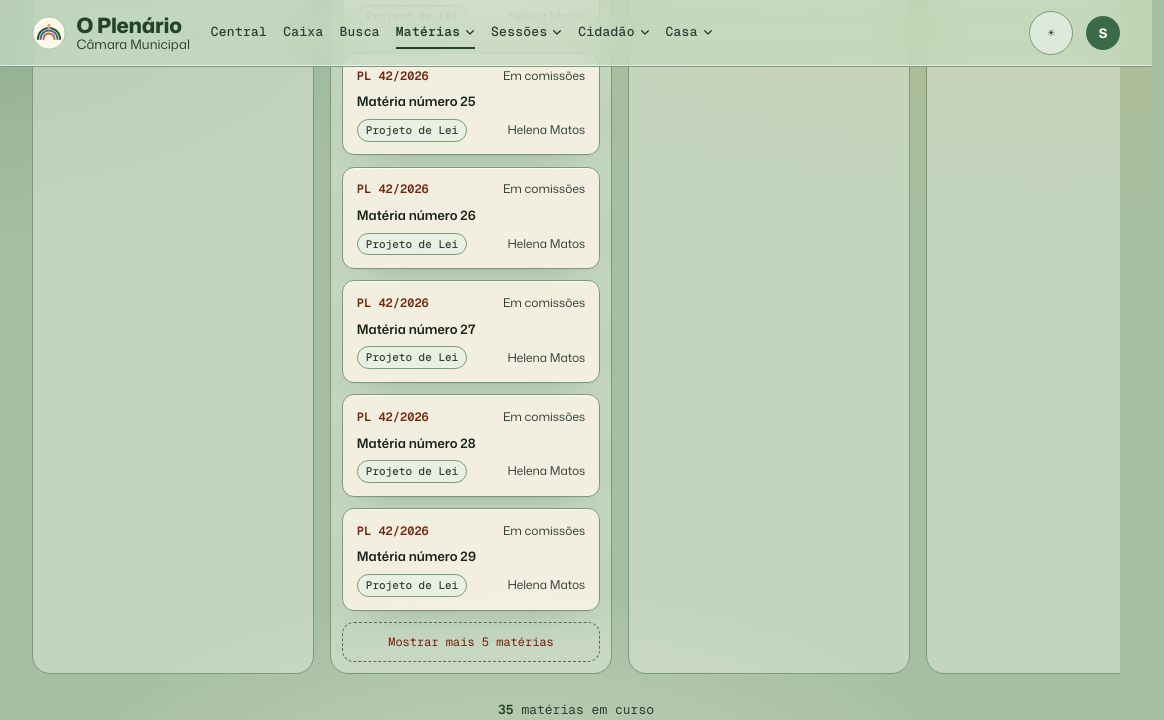
Test: PaginaTramitacao › coluna com mais matérias que o teto mostra 'Mostrar mais' e expande ao clicar
(page scrolled)
Check: the text "Matéria número 30" is not shown
Click the button "Mostrar mais 5 matérias" at (471, 642), box [342,622,600,662]
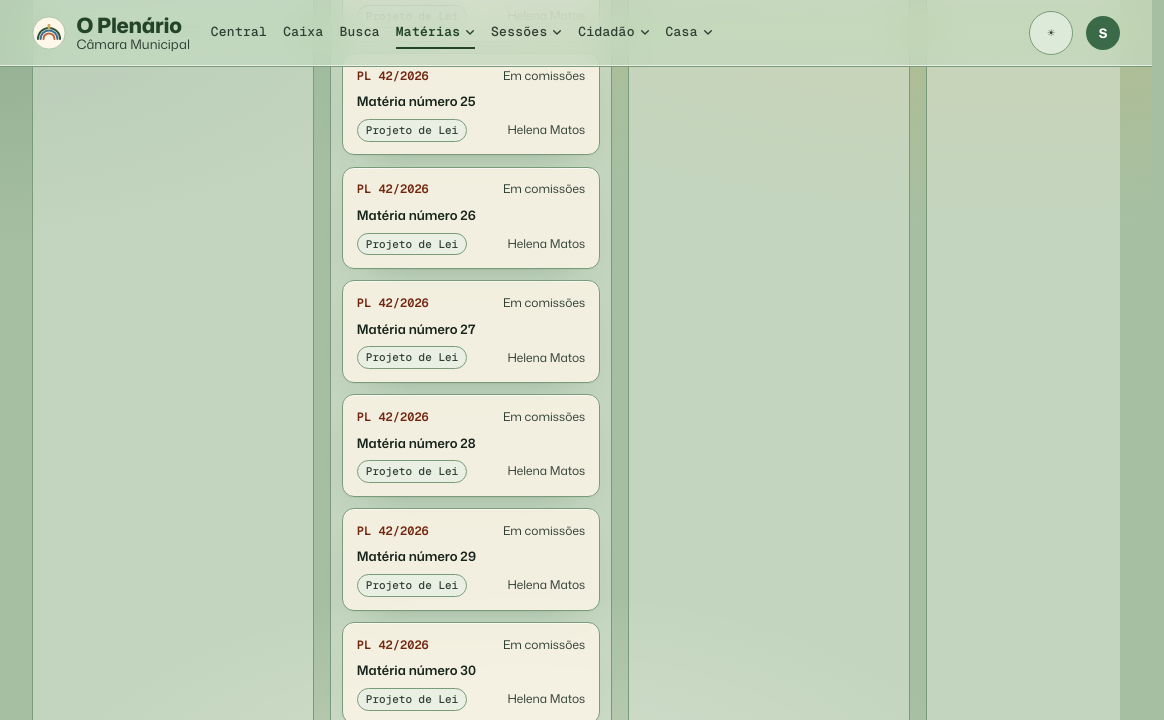
Check: the link "Matéria número 30" is shown, box [357,661,476,679]
